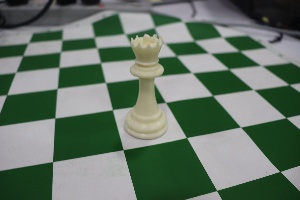white_queen: (122, 25, 174, 146)
